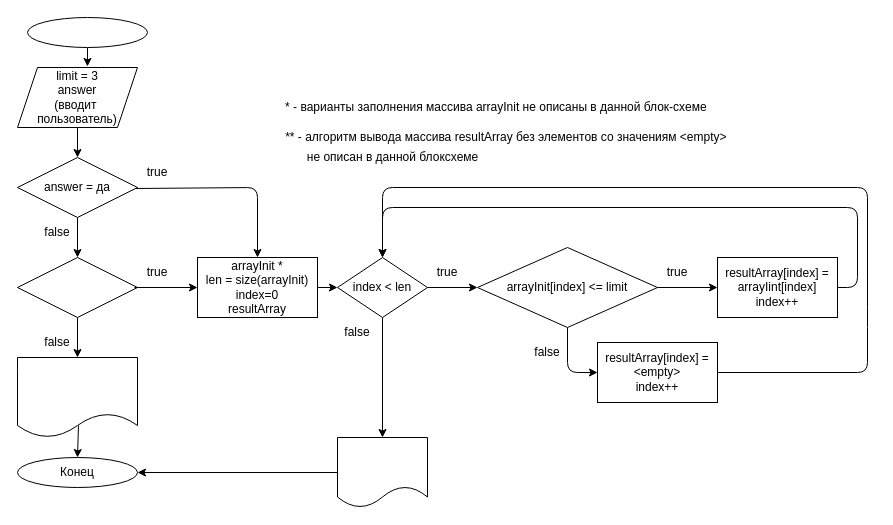
The diagram is 893 pixels wide and 525 high, and some of its shapes have lost their labels. Here are the shapes that lost their labels. From the top down, the centre of each, then its label:
At point (87, 32): "Начало".
At point (77, 287): "answer = нет".
At point (77, 397): "введено некорректное значение. перезапустите".
At point (382, 472): "arrayInit resultArray**".
